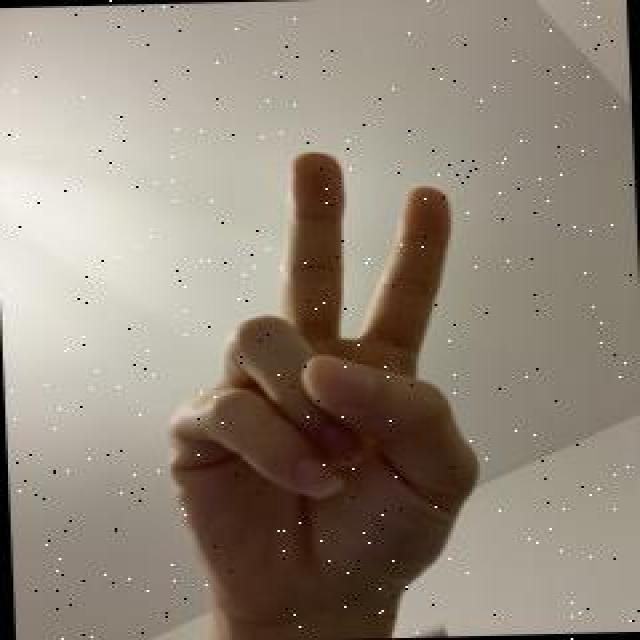V: (148, 144, 497, 636)
